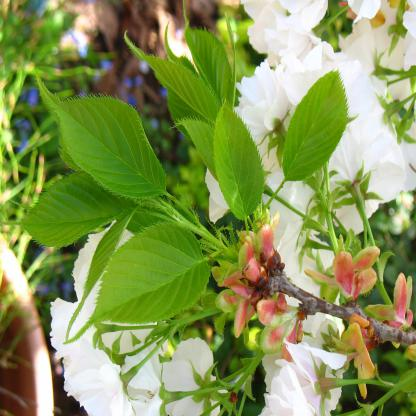cherry leaf: (30, 67, 170, 204), (83, 220, 219, 341), (18, 169, 148, 255), (277, 63, 354, 190), (209, 92, 265, 228)
